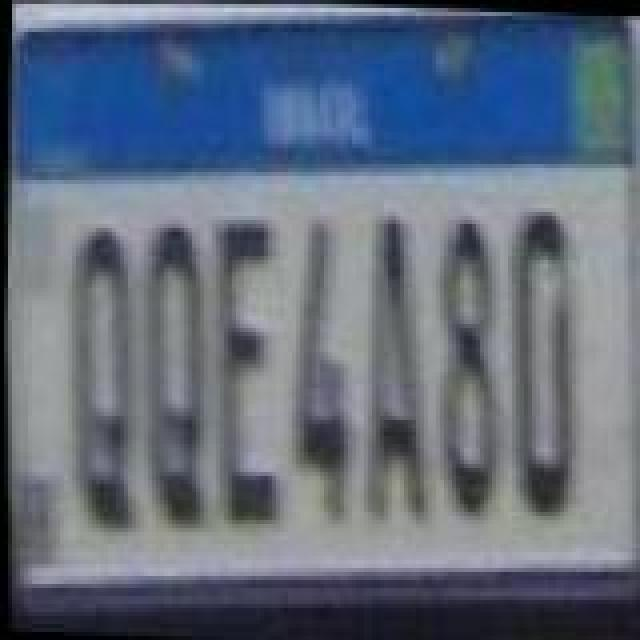4: (272, 206, 364, 518)
8: (424, 210, 508, 518)
A: (346, 206, 434, 514)
D: (496, 198, 584, 514)
E: (200, 214, 284, 522)
Q: (126, 214, 214, 526), (58, 218, 138, 534)
